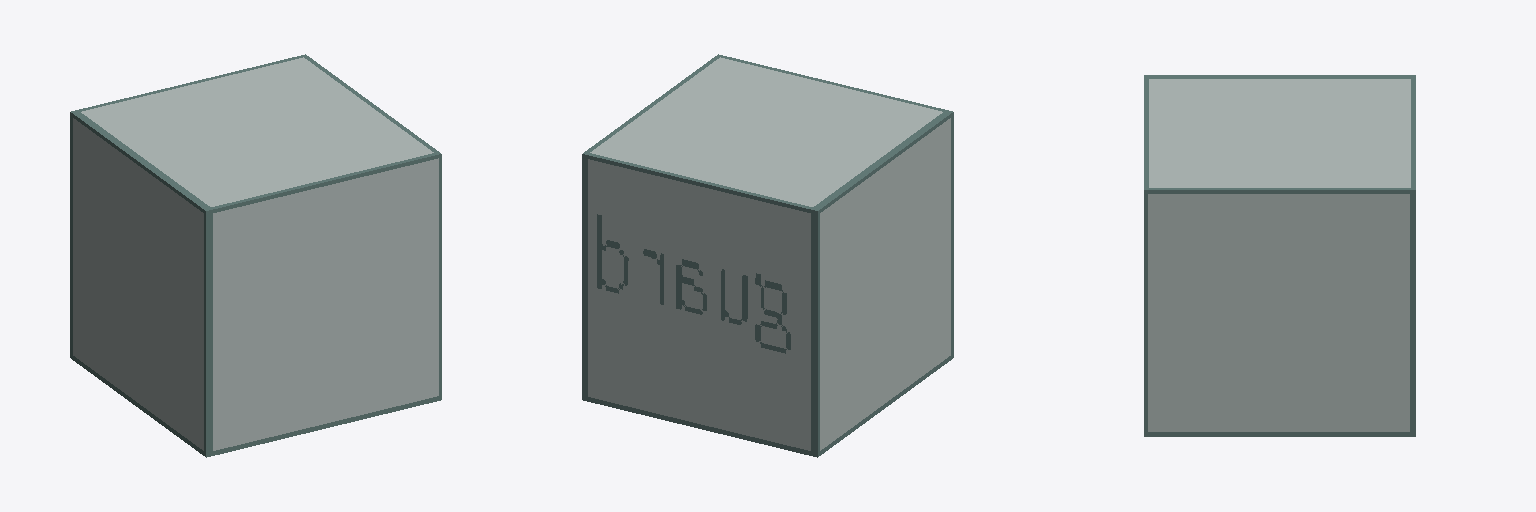
The picture shows the model from 3 angles: view 1: azimuth 30°, elevation 25°; view 2: azimuth 150°, elevation 25°; view 3: azimuth 270°, elevation 25°; orthographic projection.
Parts seen in each view (by area): view 1: Cube; view 2: Cube; view 3: Cube.
Boxes of the visible parts, x1,y1,x2,y2 form: Cube: [70, 54, 441, 457]; Cube: [582, 54, 953, 457]; Cube: [1144, 75, 1415, 436].
Size of the model in its own units: 2 by 2 by 2.
1 materials, 1 textured.